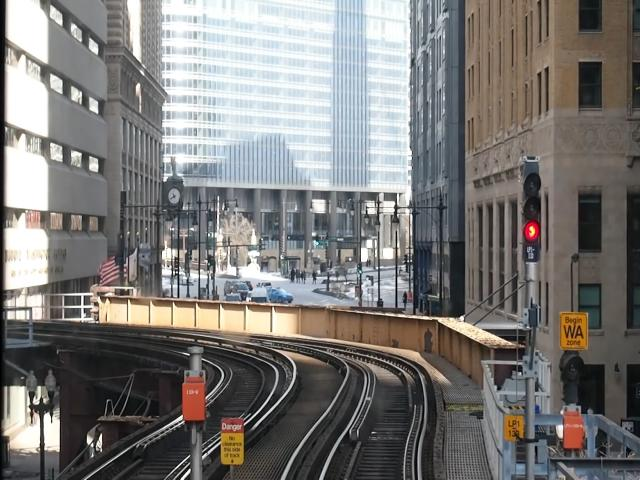signal light: (522, 162, 543, 260)
